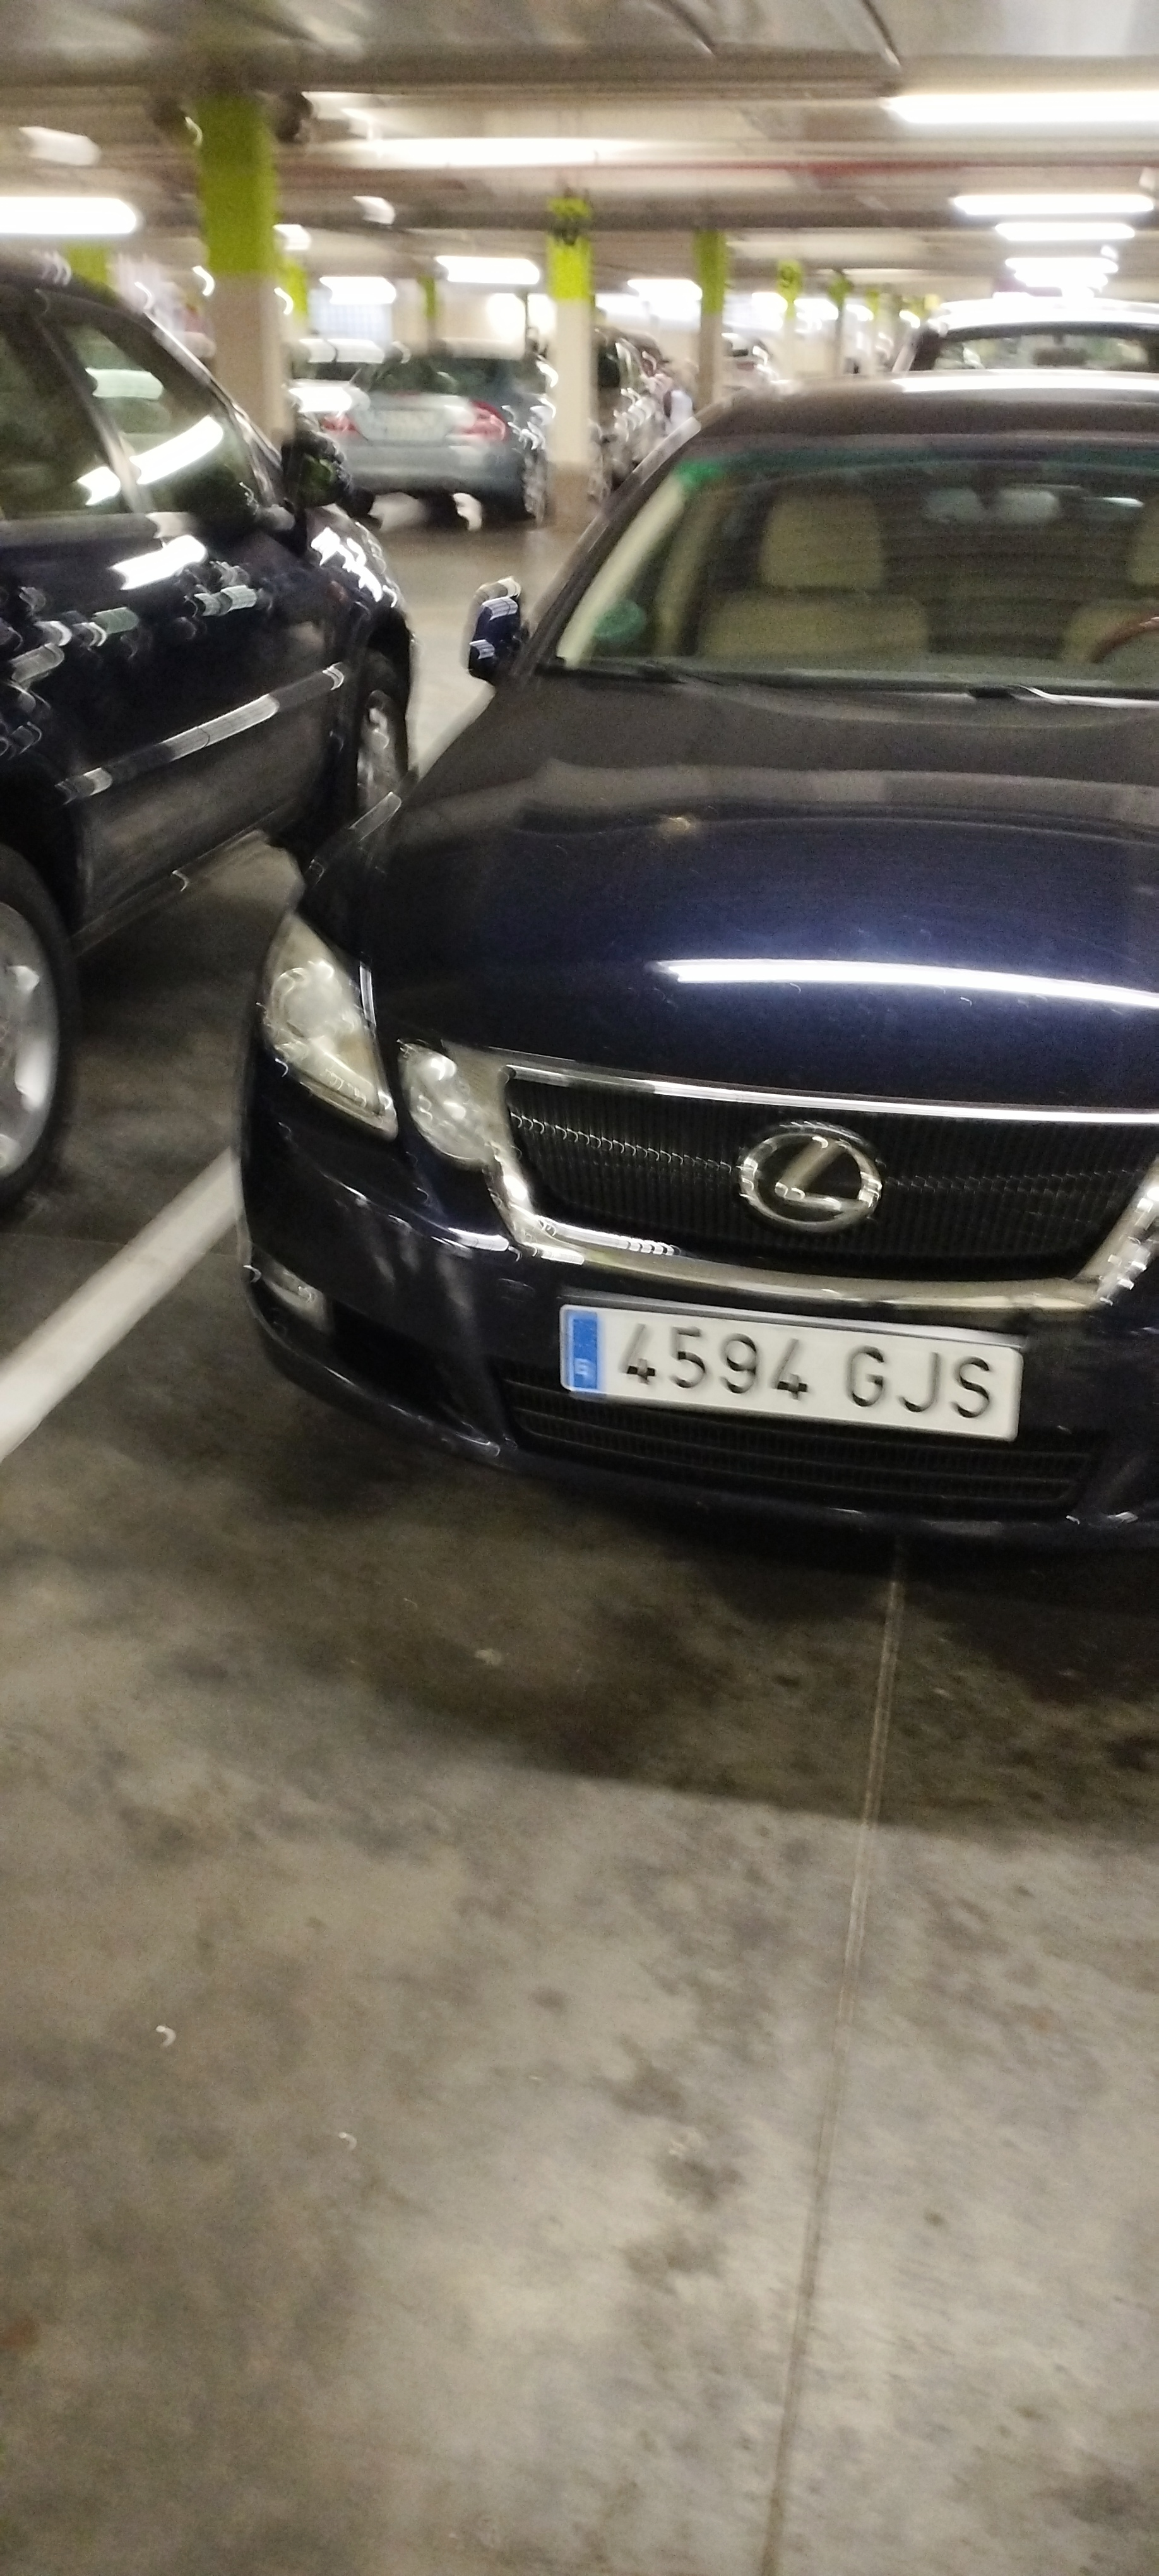Car: (244, 331, 1158, 1570)
Plate: (568, 1286, 1018, 1404)
